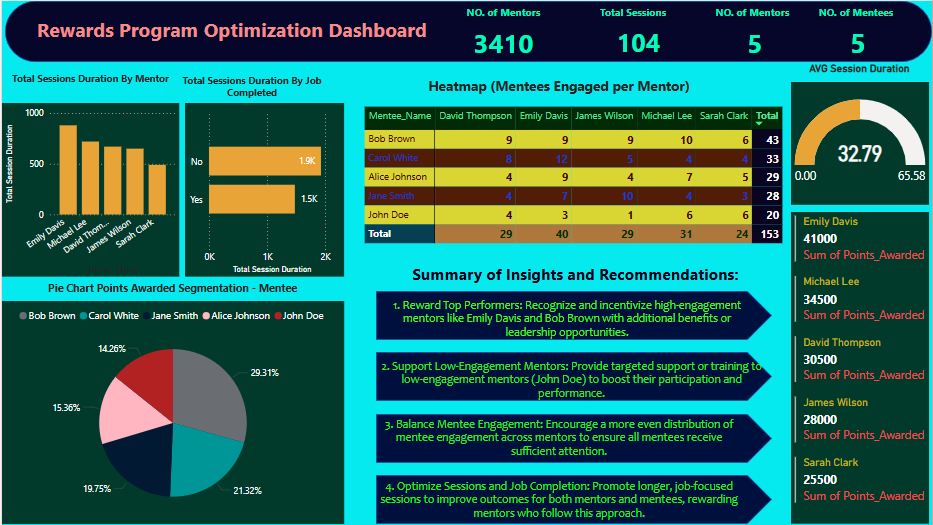

Layout of this report page (visuals, bound fields, positions):
{"tool":"powerbi","page":{"name":"Page 1","canvas":[1280,720],"ordinal":0},"visuals":[{"type":"shape","box":[4.1,0,1275.9,84],"z":0},{"type":"textbox","box":[9.6,15.1,613.9,63.3],"z":1000},{"type":"card","fields":{"Values":["final_dataset.Total Session Duration"]},"box":[613.9,30.3,152.8,53.7],"z":2000},{"type":"card","fields":{"Values":["final_dataset.Total Sessions"]},"box":[821.7,30.3,108.7,53.7],"z":3000},{"type":"card","fields":{"Values":["final_dataset.Unique Mentees"]},"box":[986.8,30.3,99.1,53.7],"z":4000},{"type":"card","fields":{"Values":["final_dataset.Points Per Mentee"]},"box":[1135.5,30.3,85.3,53.7],"z":5000},{"type":"pieChart","fields":{"Category":["final_dataset.Mentee_Name"],"Y":["final_dataset.Points_Awarded"]},"box":[0,412.9,470.7,306.9],"z":6000},{"type":"textbox","box":[9.6,379.9,450.1,37.2],"z":7000},{"type":"textbox","box":[0,92.2,243.6,37.2],"z":8000},{"type":"textbox","box":[217.5,95,253.2,45.4],"z":9000},{"type":"clusteredColumnChart","fields":{"Category":["final_dataset.Mentor_Name"],"Y":["final_dataset.Total Session Duration"]},"box":[0,140.4,243.6,239.5],"z":10000},{"type":"barChart","fields":{"Category":["final_dataset.Job_Info_Completed"],"Y":["final_dataset.Total Session Duration"]},"box":[251.9,140.4,218.8,239.5],"z":11000},{"type":"multiRowCard","fields":{"Values":["final_dataset.Points_Awarded","final_dataset.Mentor_Name"]},"box":[1085.9,290.4,189.9,429.4],"z":12000},{"type":"pivotTable","fields":{"Rows":["final_dataset.Mentee_Name"],"Columns":["final_dataset.Mentor_Name"],"Values":["final_dataset.Session_Number"]},"box":[494.1,140.4,591.8,205.1],"z":13000},{"type":"gauge","fields":{"Y":["final_dataset.Average Session Duration"]},"box":[1085.9,111.5,189.9,169.3],"z":14000},{"type":"textbox","box":[470.7,99.1,591.8,37.2],"z":15000},{"type":"textbox","box":[1099.7,78.5,161,39.9],"z":16000},{"type":"textbox","box":[806.5,0,123.9,30.3],"z":17000},{"type":"textbox","box":[623.5,0,133.5,31.7],"z":18000},{"type":"textbox","box":[966.2,0,133.5,31.7],"z":19000},{"type":"textbox","box":[1113.5,0,123.9,31.7],"z":20000},{"type":"textbox","box":[525.8,356.5,527.1,46.8],"z":22000},{"type":"shape","box":[515.1,399.1,545,67.4],"z":23000},{"type":"shape","box":[515.1,483.6,545,67.4],"z":24000},{"type":"shape","box":[515.1,568,545,67.4],"z":25000},{"type":"shape","box":[515.1,652.4,545,67.4],"z":26000},{"type":"textbox","box":[521.6,403.3,512,79.8],"z":26001},{"type":"textbox","box":[510.6,652.4,512,67.4],"z":26002},{"type":"textbox","box":[510.6,567,512,68.8],"z":26003},{"type":"textbox","box":[514.8,487.2,538.1,79.8],"z":26004}]}

Visuals, with their boxes in screenshot pixels (x1, y1, x2, y2), scaled from the page's 1280x720 canvas onto the 933x525 screenshot:
shape: BBox(3, 0, 932, 61)
textbox: BBox(7, 11, 454, 57)
card - final_dataset.Total Session Duration: BBox(447, 22, 559, 61)
card - final_dataset.Total Sessions: BBox(599, 22, 678, 61)
card - final_dataset.Unique Mentees: BBox(719, 22, 792, 61)
card - final_dataset.Points Per Mentee: BBox(828, 22, 890, 61)
pieChart - final_dataset.Mentee_Name x final_dataset.Points_Awarded: BBox(0, 301, 343, 524)
textbox: BBox(7, 277, 335, 304)
textbox: BBox(0, 67, 178, 94)
textbox: BBox(159, 69, 343, 102)
clusteredColumnChart - final_dataset.Mentor_Name x final_dataset.Total Session Duration: BBox(0, 102, 178, 277)
barChart - final_dataset.Job_Info_Completed x final_dataset.Total Session Duration: BBox(184, 102, 343, 277)
multiRowCard - final_dataset.Points_Awarded x final_dataset.Mentor_Name: BBox(792, 212, 930, 524)
pivotTable - final_dataset.Mentee_Name x final_dataset.Mentor_Name: BBox(360, 102, 792, 252)
gauge - final_dataset.Average Session Duration: BBox(792, 81, 930, 205)
textbox: BBox(343, 72, 774, 99)
textbox: BBox(802, 57, 919, 86)
textbox: BBox(588, 0, 678, 22)
textbox: BBox(454, 0, 552, 23)
textbox: BBox(704, 0, 802, 23)
textbox: BBox(812, 0, 902, 23)
textbox: BBox(383, 260, 767, 294)
shape: BBox(375, 291, 773, 340)
shape: BBox(375, 353, 773, 402)
shape: BBox(375, 414, 773, 463)
shape: BBox(375, 476, 773, 524)
textbox: BBox(380, 294, 753, 352)
textbox: BBox(372, 476, 745, 524)
textbox: BBox(372, 413, 745, 464)
textbox: BBox(375, 355, 767, 413)
